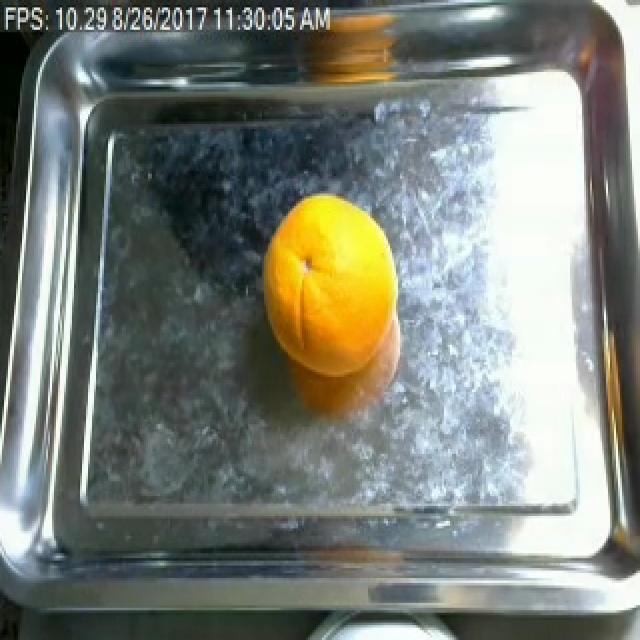Fruit: (258, 184, 408, 432)
